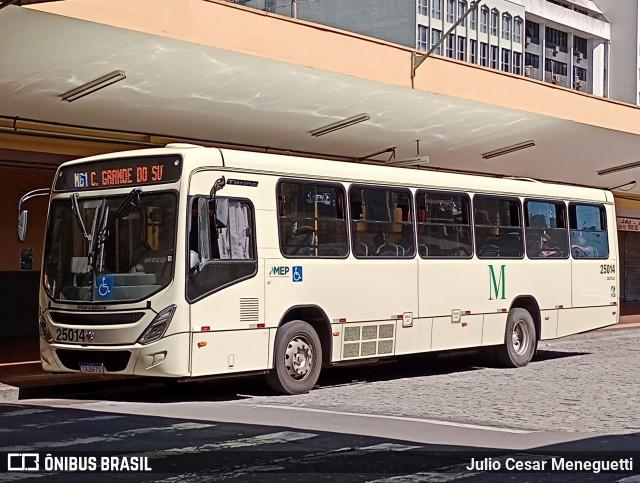C. GRANDE DO SUL: (86, 161, 170, 191)
